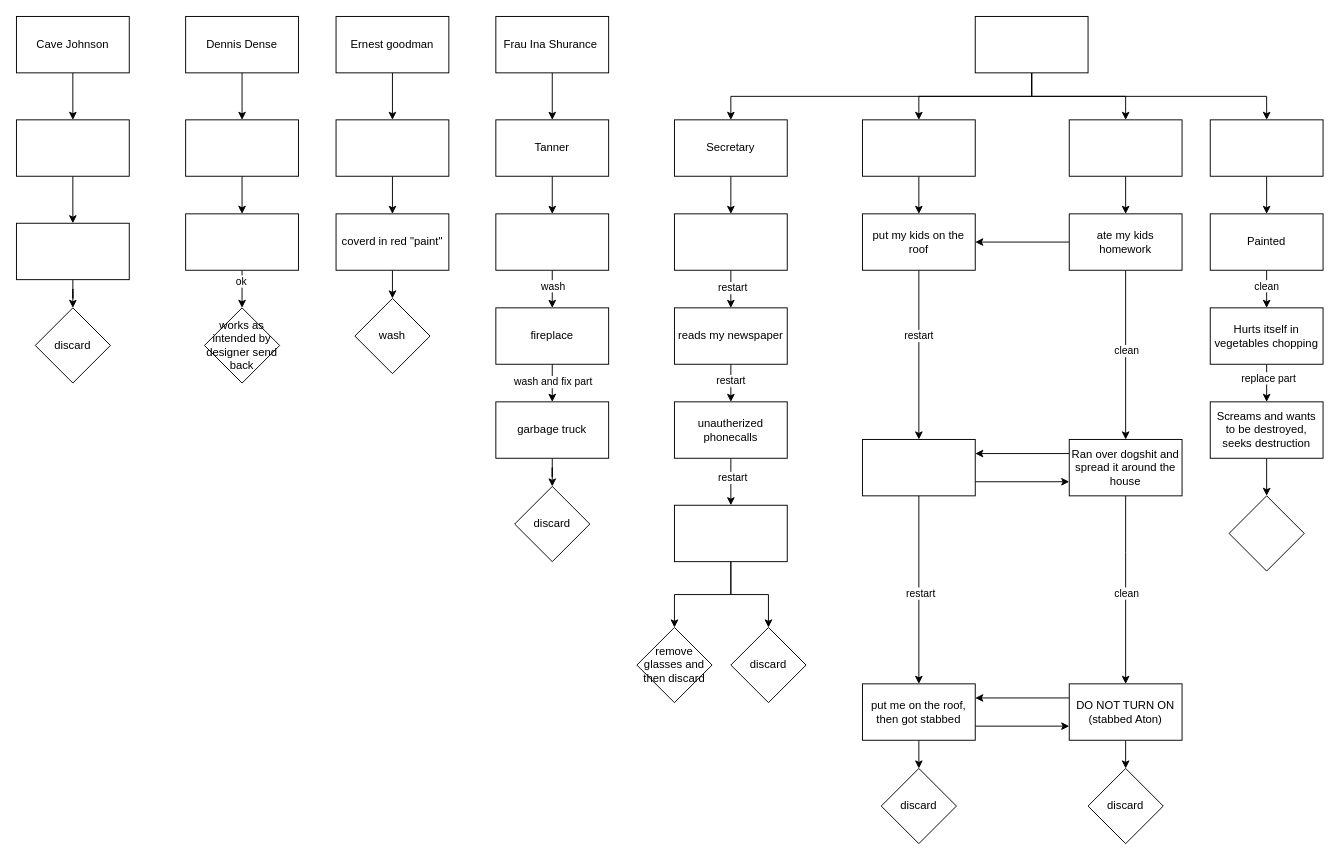
The diagram is 1340 pixels wide and 860 high, and some of its shapes have lost their labels. The centre of each missing label's shape, as x and y in pixels:
"Apofis" belongs at point 1125,147.
"Aton" belongs at point 918,147.
"Caroline" belongs at point 72,147.
"coffee" belongs at point 552,241.
"Keeps dispensing neurotoxin" belongs at point 72,251.
"keeps folowing me around... it feels like its staring at me" belongs at point 730,241.
"Lovely" belongs at point 241,147.
"Maid" belongs at point 1266,147.
"put my dog on the roof" belongs at point 918,467.
"restart and send back, or discard" belongs at point 1266,533.
"Rom bach" belongs at point 1031,44.
"Somehow keeps geting stuck in washing machine" belongs at point 241,241.
"stole my reading glasses" belongs at point 730,533.
"Tony" belongs at point 392,147.
